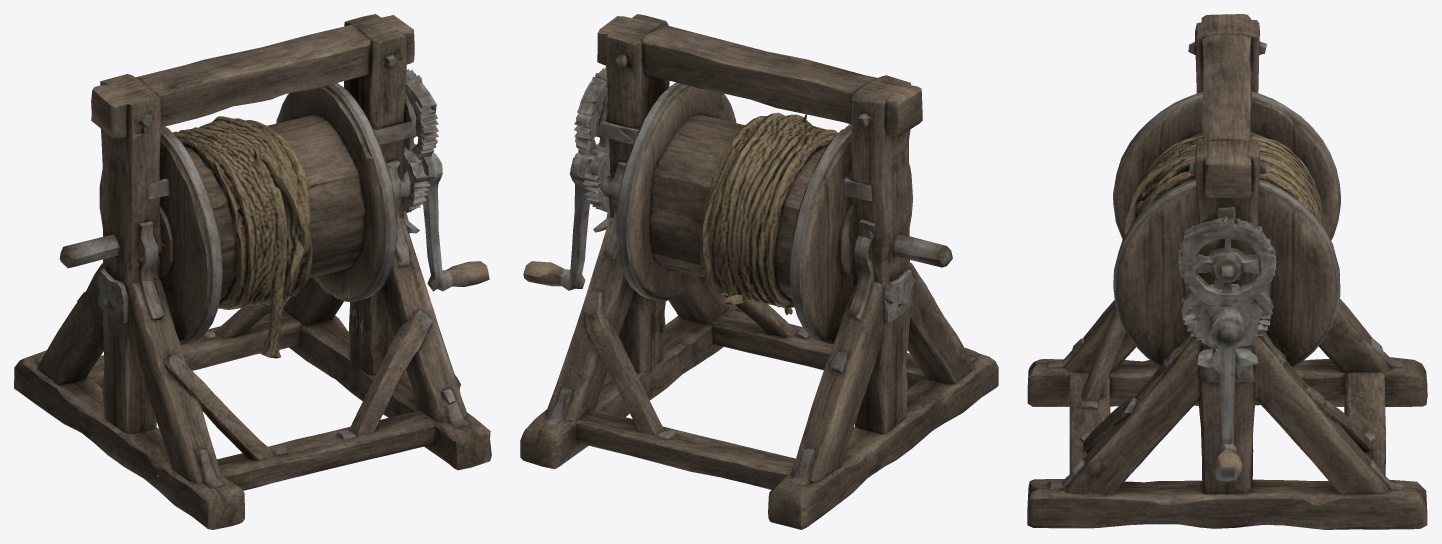
The picture shows the model from 3 angles, left to right: view 1: azimuth 30°, elevation 25°; view 2: azimuth 150°, elevation 25°; view 3: azimuth 270°, elevation 25°; orthographic projection.
Parts seen in each view (by area): view 1: world; view 2: world; view 3: world.
Boxes of the visible parts, x1,y1,x2,y2 form: world: (14,14,491,529); world: (520,14,998,529); world: (1027,14,1427,529).
Bounding box in the file's own units: 0.85 × 0.7114 × 0.6873.
Materials: 1 (1 with a texture image).
